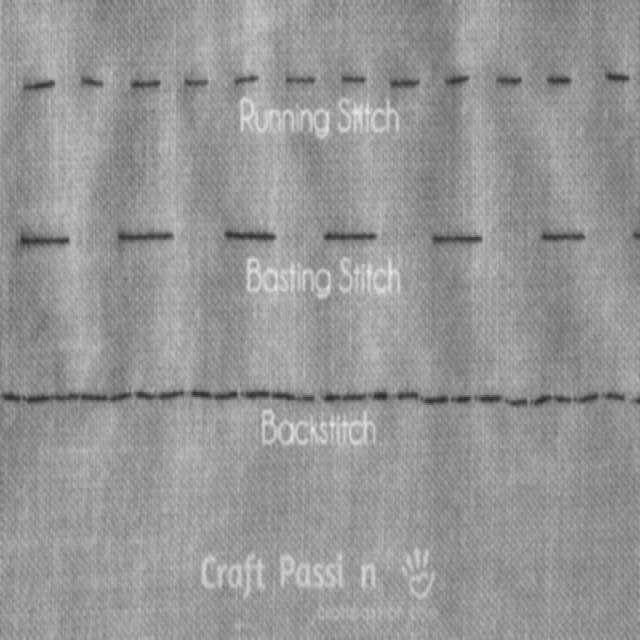stitch: (118, 229, 175, 244), (431, 232, 484, 246), (20, 235, 70, 248), (130, 75, 162, 94), (324, 231, 379, 242), (540, 231, 586, 243), (22, 77, 56, 92), (225, 231, 276, 241), (285, 73, 318, 88), (231, 71, 260, 86), (80, 73, 105, 90), (546, 73, 574, 88), (389, 77, 420, 90), (156, 388, 185, 401), (335, 390, 366, 402), (211, 388, 239, 401), (240, 388, 270, 400), (445, 73, 470, 86), (341, 74, 368, 86), (605, 71, 630, 83), (574, 392, 599, 404), (496, 75, 522, 86), (184, 77, 209, 88), (394, 390, 418, 401), (530, 394, 551, 406), (553, 393, 572, 406), (421, 396, 448, 405), (25, 394, 51, 403), (475, 394, 501, 403), (134, 390, 155, 401), (188, 388, 211, 398), (106, 393, 131, 402), (270, 392, 295, 401), (600, 392, 625, 401), (51, 392, 79, 400), (0, 392, 22, 402), (320, 392, 340, 403), (369, 390, 388, 401), (292, 393, 314, 402), (505, 398, 526, 407), (80, 394, 106, 401), (451, 396, 471, 405), (631, 229, 640, 243), (631, 394, 640, 408)
